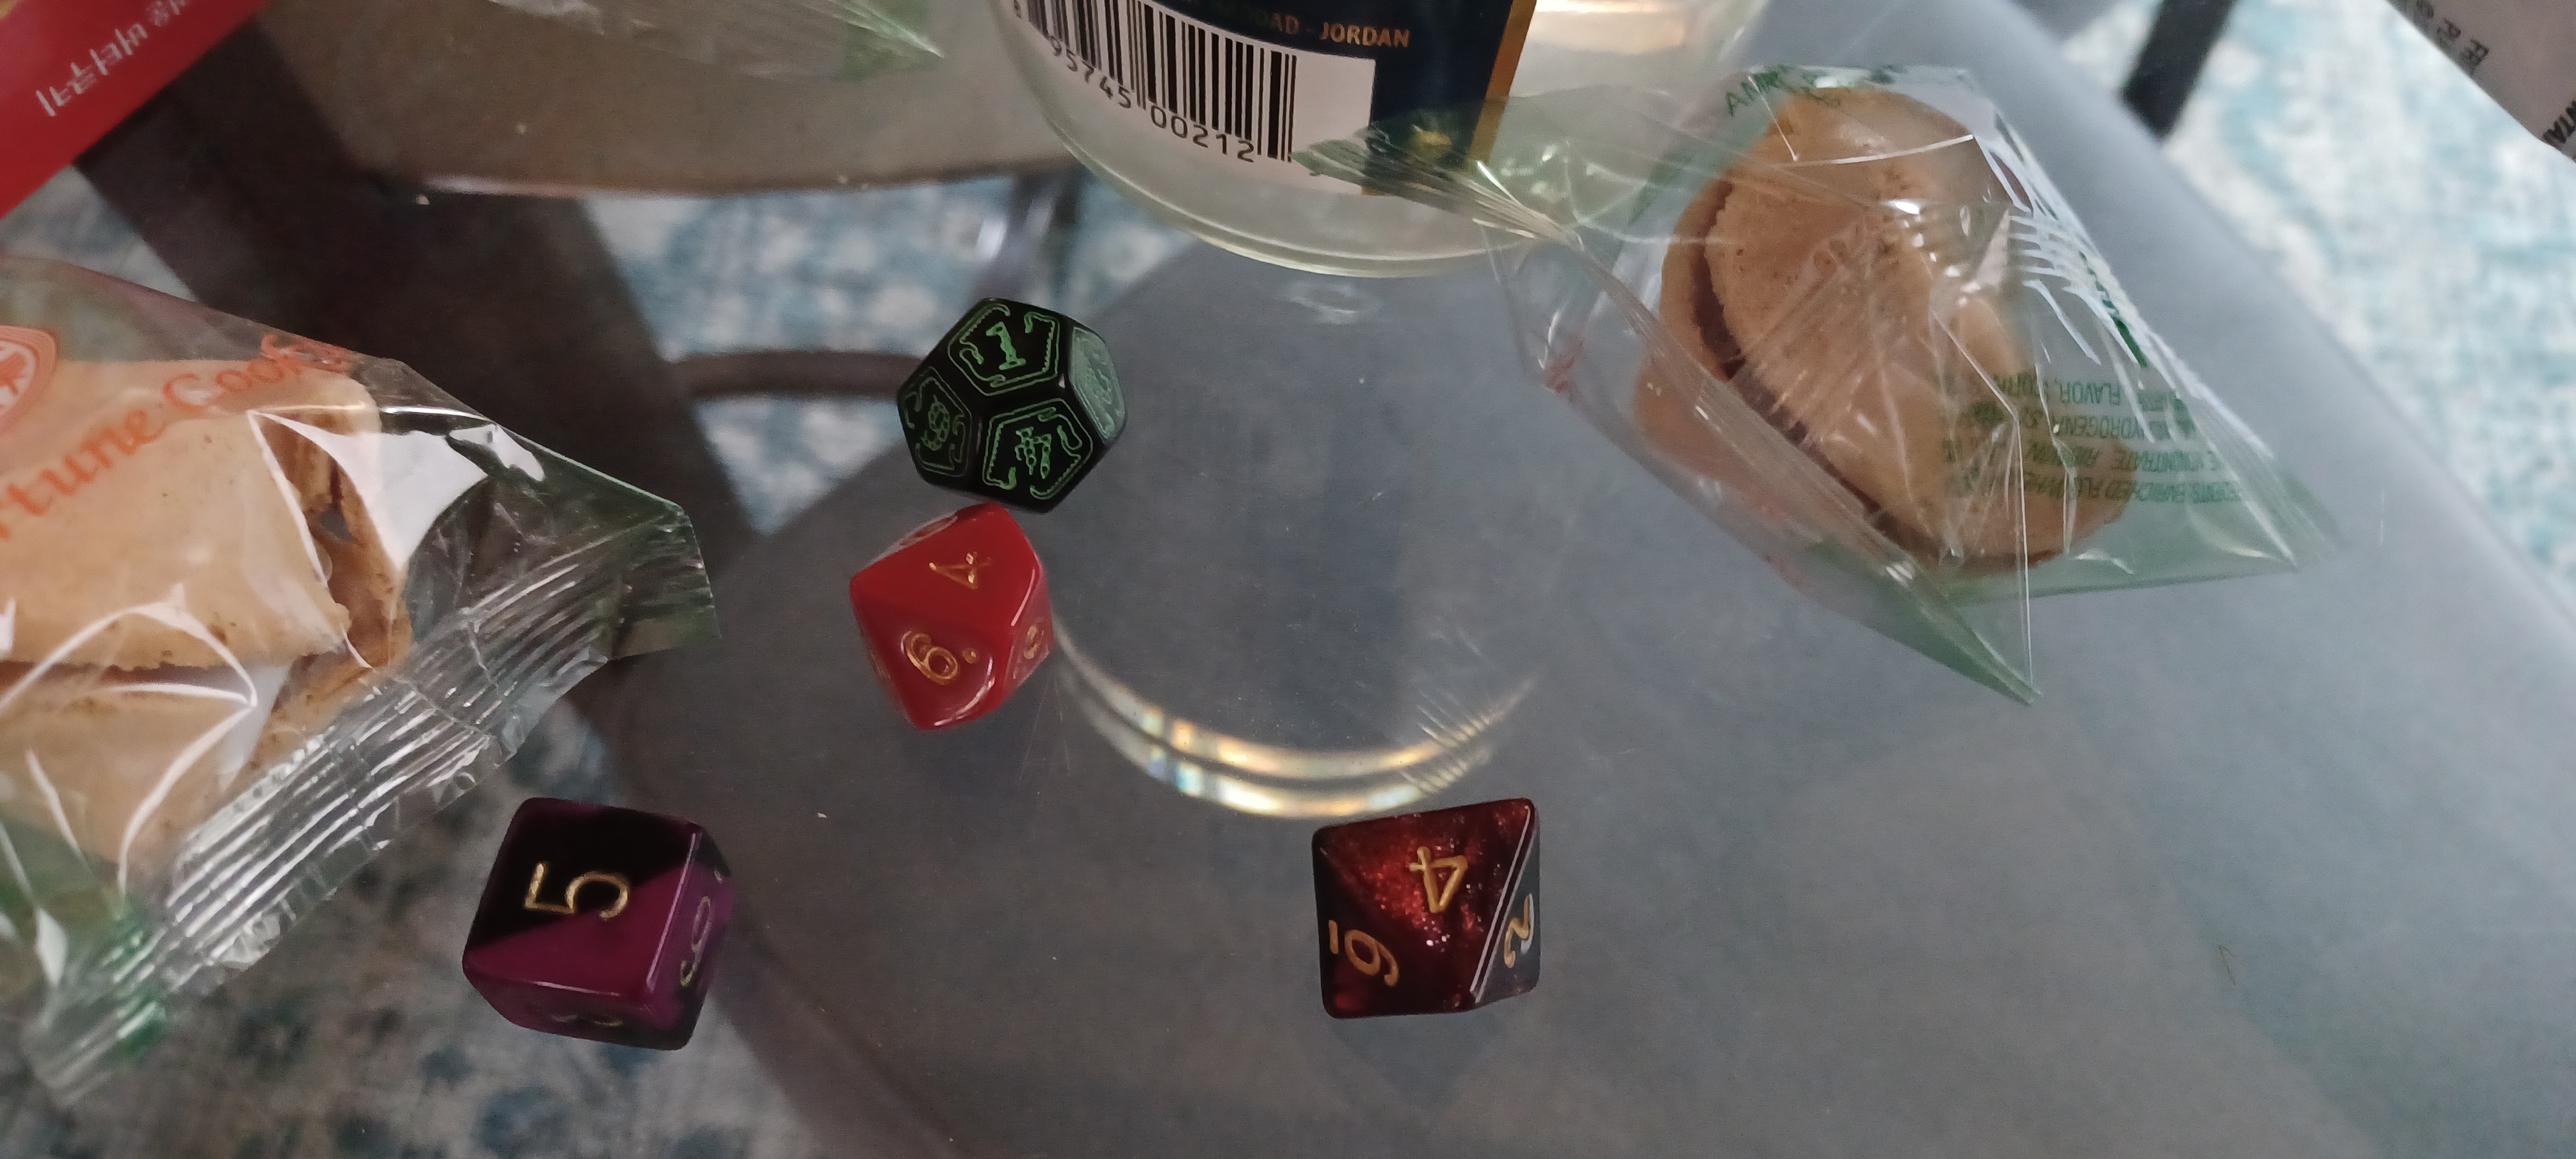five: (427, 760, 767, 1082)
four: (1285, 768, 1585, 1049), (818, 478, 1099, 750)
one: (879, 281, 1173, 514)
